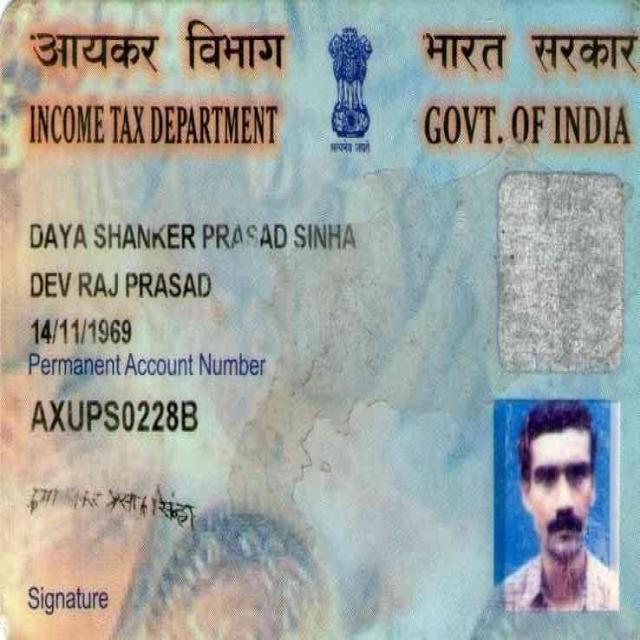pan_card: (1, 4, 640, 640)
